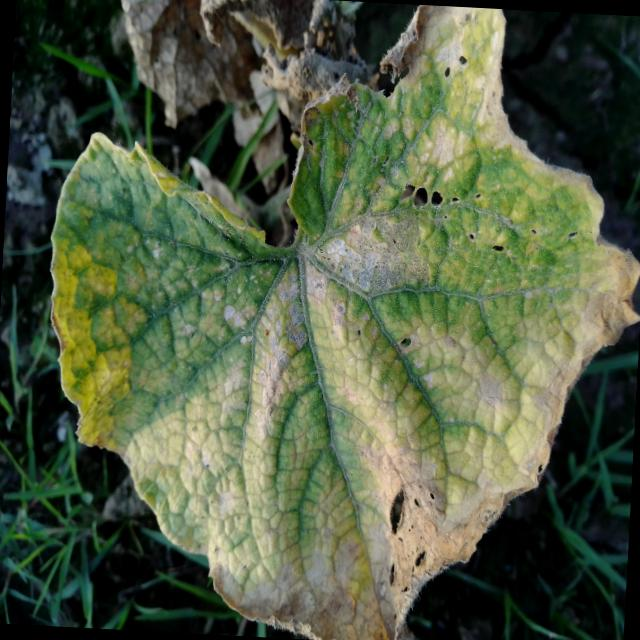cucumber_gummy: (13, 0, 640, 640), (88, 0, 286, 144)
